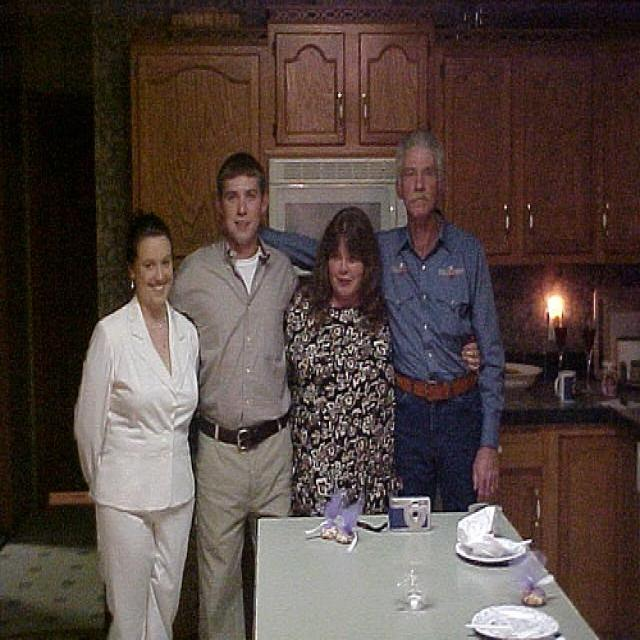diningtable: (255, 508, 597, 639)
person: (178, 157, 294, 640), (77, 215, 200, 640), (385, 138, 499, 517), (283, 206, 398, 515)
